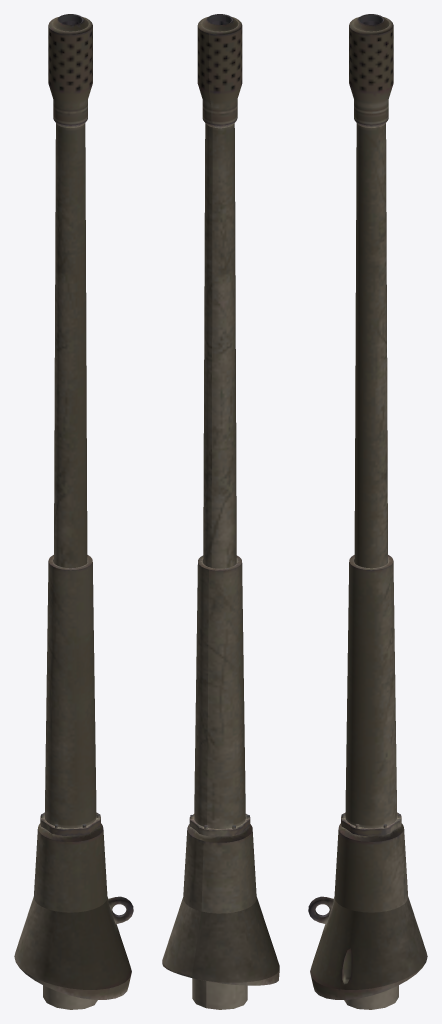
The model's file is Gun_08.glb.
The picture shows the model from 3 angles, left to right: view 1: azimuth 90°, elevation 25°; view 2: azimuth 150°, elevation 25°; view 3: azimuth 270°, elevation 25°; orthographic projection.
Visible parts, largest first — view 1: set_0_group_0; view 2: set_0_group_0; view 3: set_0_group_0.
Part boxes in pixels (<box>): set_0_group_0: <box>14,14,133,1009</box>; set_0_group_0: <box>162,14,279,1009</box>; set_0_group_0: <box>308,14,427,1009</box>.
Bounding box in the file's own units: 0.637 × 5.87 × 0.6474.
1 material, 1 textured.
